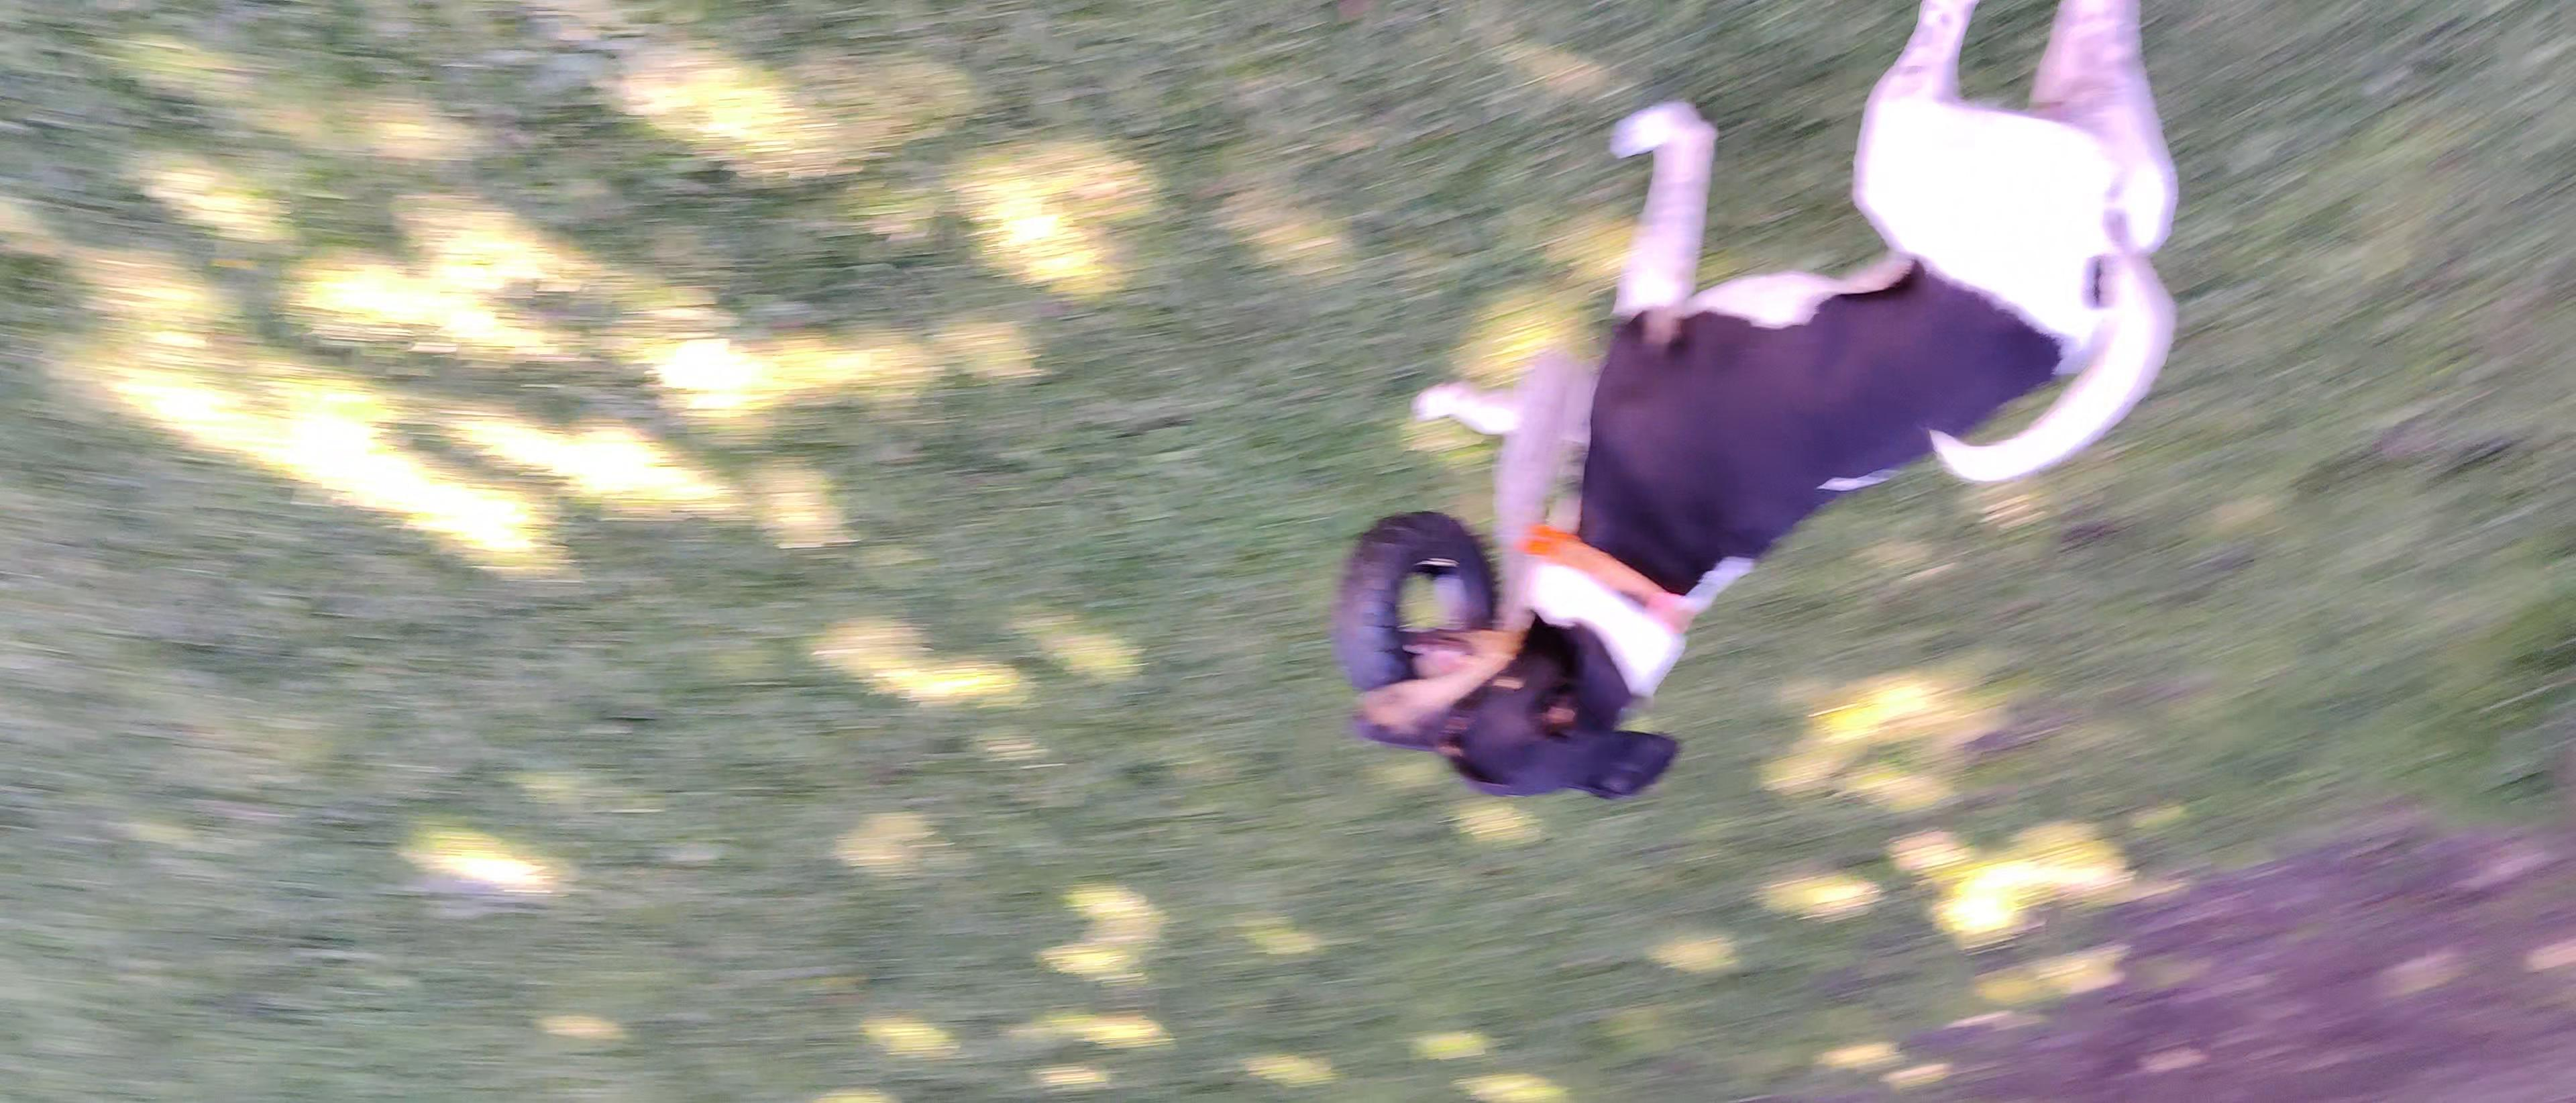Dog: (1341, 0, 2188, 810)
